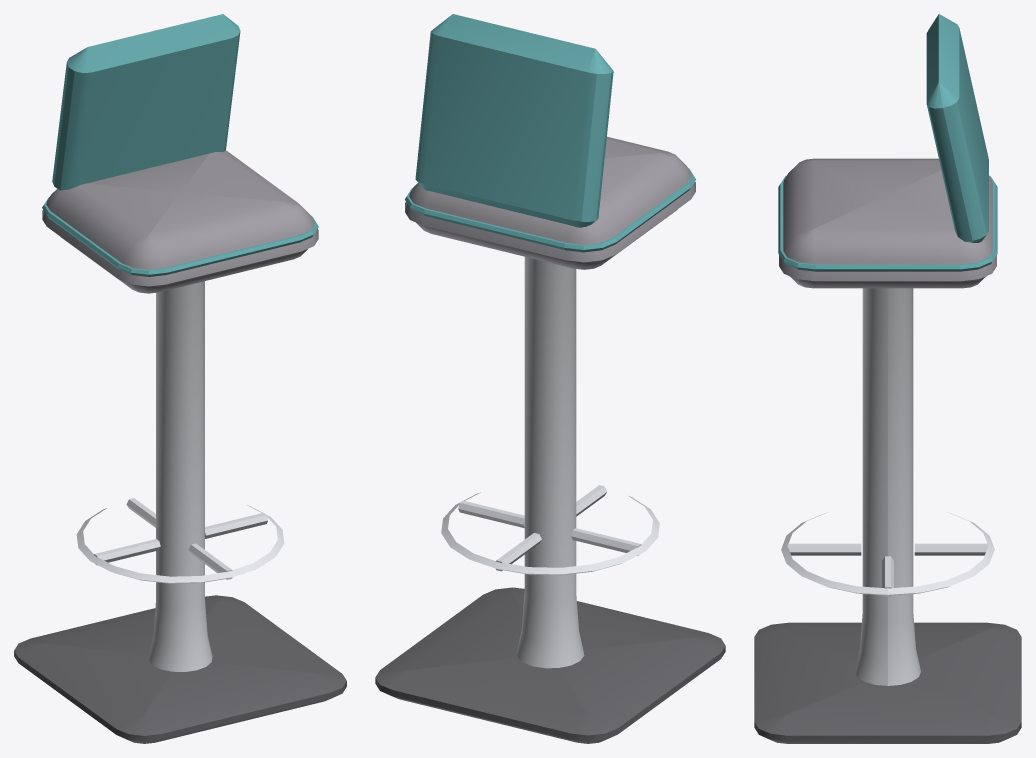
The model's file is fast-food-and-drive-thru-high-stool-097a39fd__16182.glb.
3 renders of one model, left to right at view 1: azimuth 30°, elevation 25°; view 2: azimuth 150°, elevation 25°; view 3: azimuth 270°, elevation 25°, orthographic. The views are drawn at different scales.
Visible parts, largest first — view 1: high-stool; view 2: high-stool; view 3: high-stool.
Boxes of the visible parts, box(x1,y1,x2,y2) form: high-stool: box(14, 14, 346, 743); high-stool: box(375, 14, 725, 743); high-stool: box(754, 14, 1021, 743).
Bounding box in the file's own units: 0.4 × 1.06 × 0.4.
